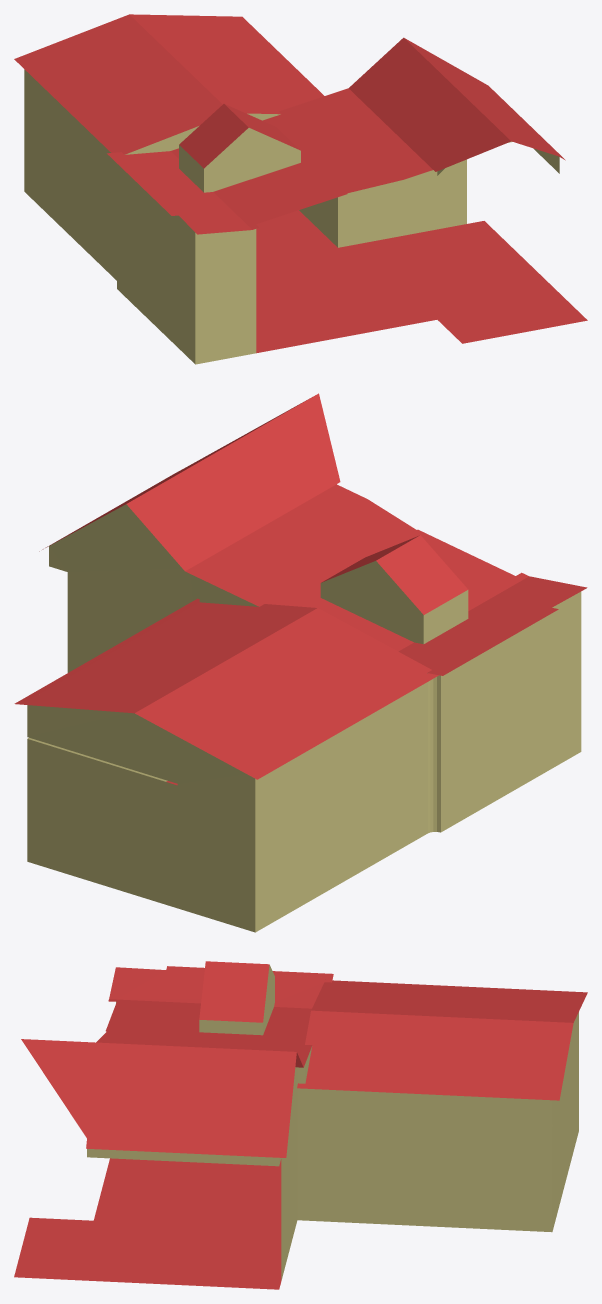
3 renders of one model, top to bottom at view 1: azimuth 30°, elevation 25°; view 2: azimuth 150°, elevation 25°; view 3: azimuth 270°, elevation 25°, orthographic. The views are drawn at different scales.
Bounding box in the file's own units: 27.79 × 35.69 × 13.81.
